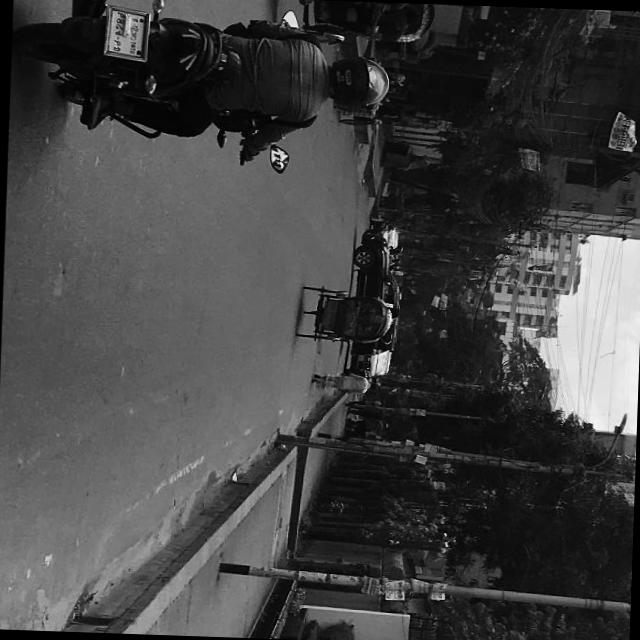car: (350, 232, 398, 356), (344, 350, 391, 380), (371, 220, 398, 248)
motorcycle: (13, 0, 393, 177), (290, 0, 434, 51), (294, 286, 389, 346)
